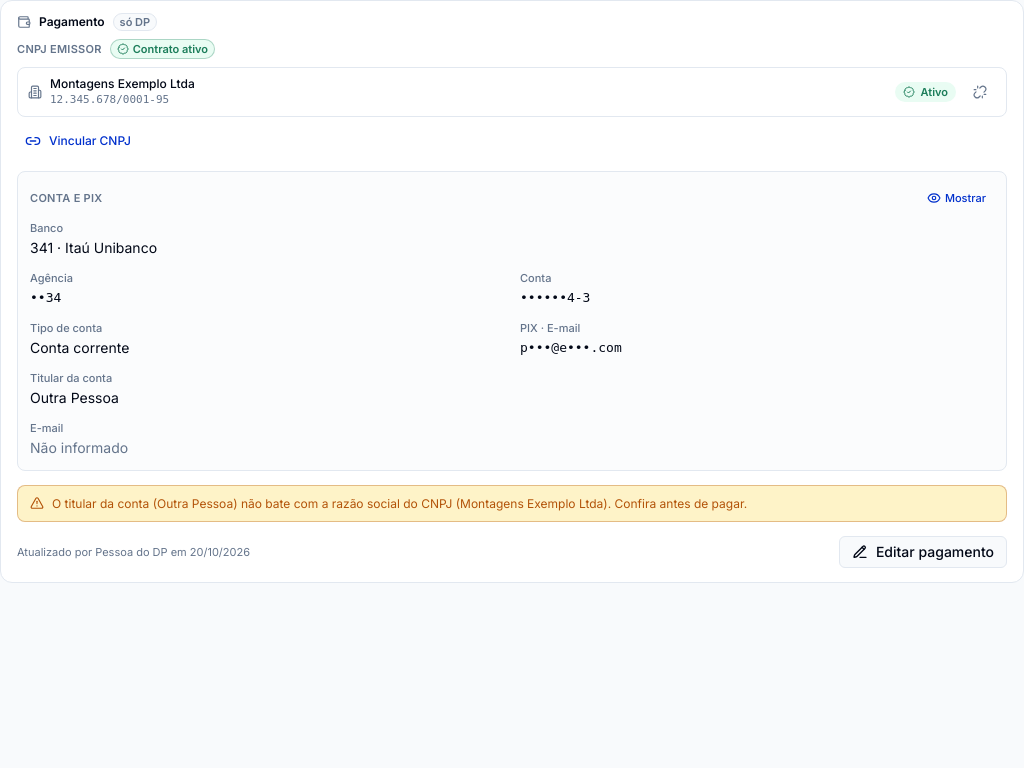
Seção de pagamento no cadastro do colaborador › DP: CNPJ com selo, dados mascarados até Mostrar, aviso do titular
This screenshot has width=1024, height=768.
Expected: the text "Montagens Exemplo Ltda" is shown, 50,76 -> 195,91
Expected: the element with test id "selo-contrato-com_contrato_ativo" is shown, 110,39 -> 215,59
Click the button with test id "pag-mostrar": [956, 198] box 919,184 -> 994,212
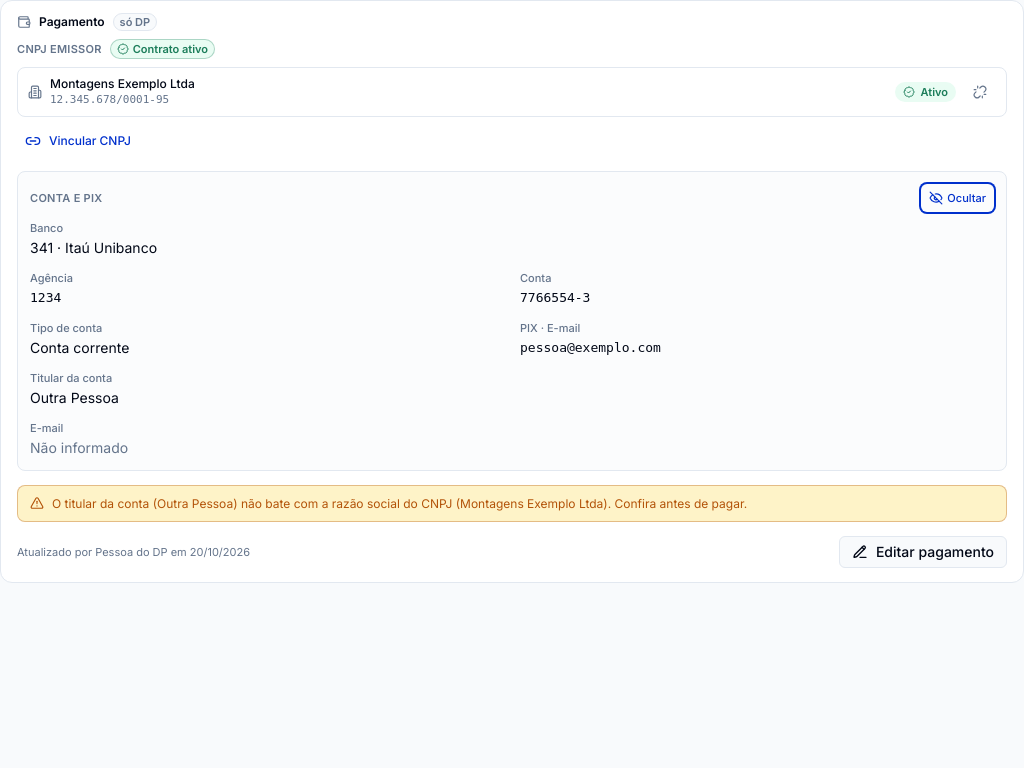
Expected: the element with test id "secao-pagamento" shows "341 · Itaú Unibanco", 30,239 -> 157,256
Result: the element with test id "secao-pagamento" shows "7766554-3" at 520,290 -> 590,305
